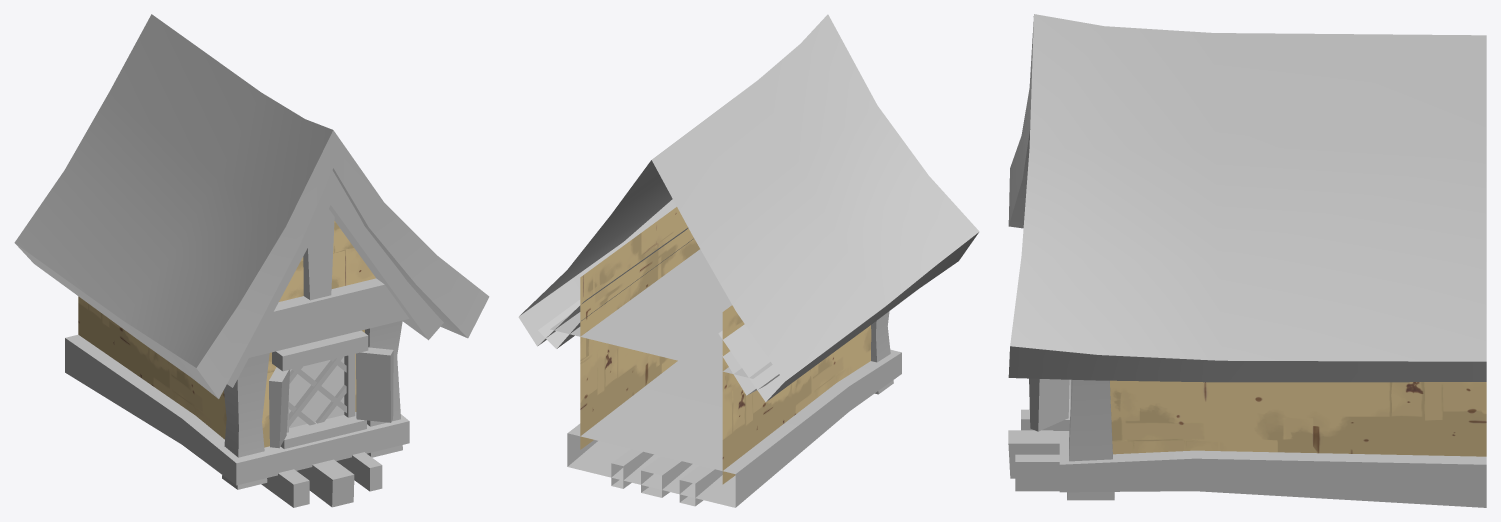
File: SM_BLD_window_v03_01.fbx
3 views of the same model, side by side, from view 1: azimuth 30°, elevation 25°; view 2: azimuth 150°, elevation 25°; view 3: azimuth 270°, elevation 25° (orthographic). The views are drawn at different scales.
Visible parts, largest first — view 1: SM_BLD_window_v03_01; view 2: SM_BLD_window_v03_01; view 3: SM_BLD_window_v03_01.
Boxes of the visible parts, x1,y1,x2,y2 form: SM_BLD_window_v03_01: [14, 14, 489, 507]; SM_BLD_window_v03_01: [518, 14, 979, 507]; SM_BLD_window_v03_01: [1008, 14, 1486, 507].
Bounding box in the file's own units: 311 × 374 × 354.
